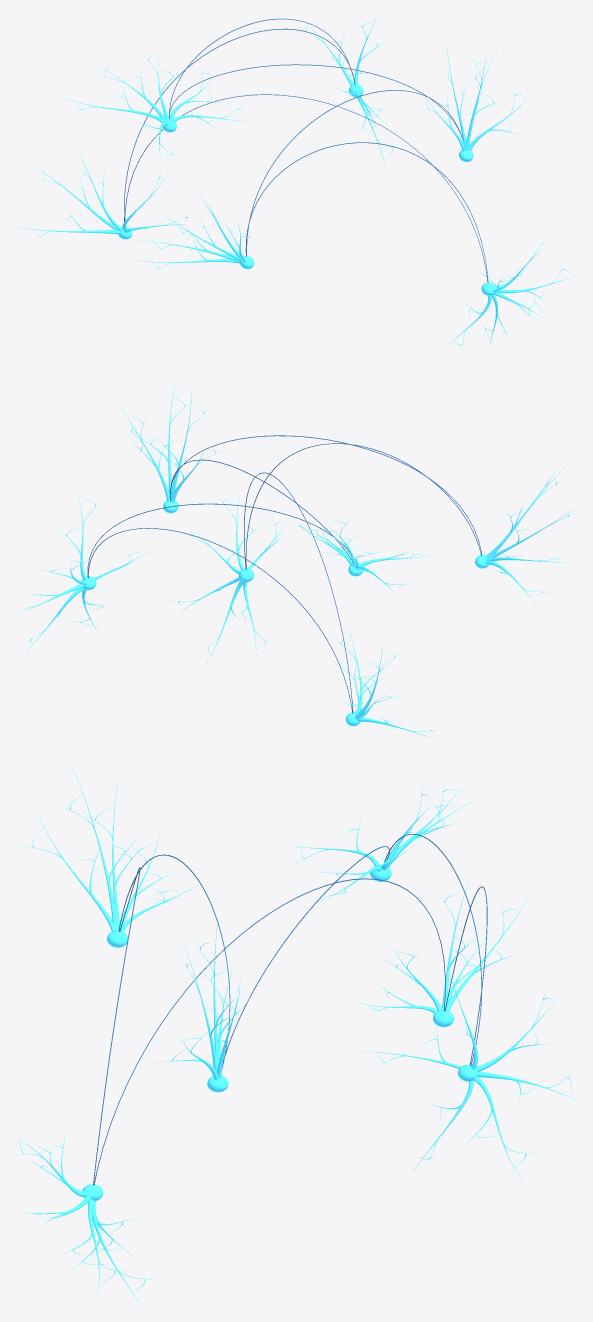
Rendered from brain-interior.glb.
3 renders of one model, top to bottom at view 1: azimuth 30°, elevation 25°; view 2: azimuth 150°, elevation 25°; view 3: azimuth 270°, elevation 25°, orthographic. The views are drawn at different scales.
Parts seen in each view (by area): view 1: AssociationFibers, NeuralCluster_ExperienceTeaching, NeuralCluster_ExperienceRobotics, NeuralCluster_ProjectPayguard, NeuralCluster_ExperienceHealthcare, NeuralCluster_ProjectHealthcare, NeuralCluster_ProjectFormulation; view 2: AssociationFibers, NeuralCluster_ExperienceRobotics, NeuralCluster_ProjectHealthcare, NeuralCluster_ProjectFormulation, NeuralCluster_ExperienceHealthcare, NeuralCluster_ProjectPayguard, NeuralCluster_ExperienceTeaching; view 3: AssociationFibers, NeuralCluster_ProjectFormulation, NeuralCluster_ExperienceHealthcare, NeuralCluster_ProjectPayguard, NeuralCluster_ProjectHealthcare, NeuralCluster_ExperienceRobotics, NeuralCluster_ExperienceTeaching.
Part boxes in pixels (x1,y1,x2,y2): AssociationFibers: (124,18,488,283); NeuralCluster_ExperienceTeaching: (61,54,248,158); NeuralCluster_ExperienceRobotics: (423,47,530,161); NeuralCluster_ProjectPayguard: (14,150,196,239); NeuralCluster_ExperienceHealthcare: (136,194,254,269); NeuralCluster_ProjectHealthcare: (450,236,578,350); NeuralCluster_ProjectFormulation: (301,15,394,171); AssociationFibers: (87,435,481,713); NeuralCluster_ExperienceRobotics: (121,381,225,513); NeuralCluster_ProjectHealthcare: (170,494,287,664); NeuralCluster_ProjectFormulation: (14,494,149,650); NeuralCluster_ExperienceHealthcare: (475,463,575,604); NeuralCluster_ProjectPayguard: (332,631,440,738); NeuralCluster_ExperienceTeaching: (298,519,431,593); AssociationFibers: (93,834,487,1185); NeuralCluster_ProjectFormulation: (364,968,578,1180); NeuralCluster_ExperienceHealthcare: (19,767,197,947); NeuralCluster_ProjectPayguard: (359,881,531,1027); NeuralCluster_ProjectHealthcare: (14,1133,159,1307); NeuralCluster_ExperienceRobotics: (155,919,245,1092); NeuralCluster_ExperienceTeaching: (296,780,475,901).
Bounding box in the file's own units: 2.48 × 1.67 × 2.25.
